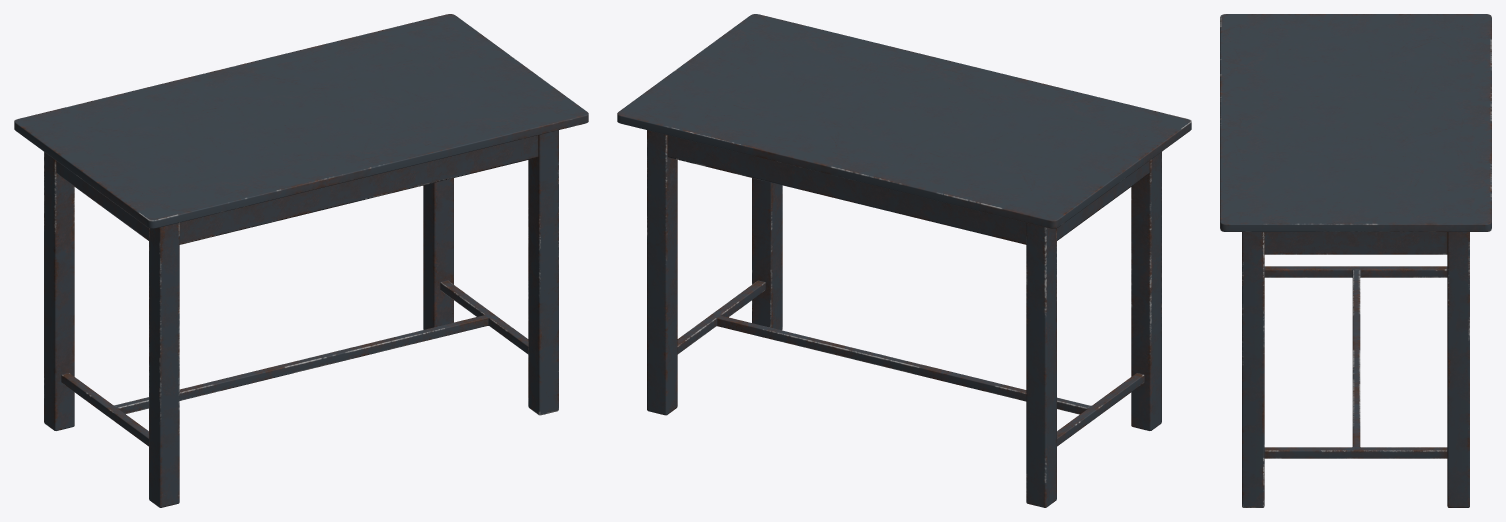
File: metal_table.obj
The picture shows the model from 3 angles, left to right: view 1: azimuth 30°, elevation 25°; view 2: azimuth 150°, elevation 25°; view 3: azimuth 270°, elevation 25°; orthographic projection. The views are drawn at different scales.
Parts seen in each view (by area): view 1: metal_table; view 2: metal_table; view 3: metal_table.
Part boxes in pixels (x1,y1,x2,y2): metal_table: (14, 14, 588, 507); metal_table: (617, 14, 1191, 507); metal_table: (1220, 14, 1491, 507).
Size of the model in its own units: 55 by 35.83 by 30.
Materials: 1 (1 with a texture image).
